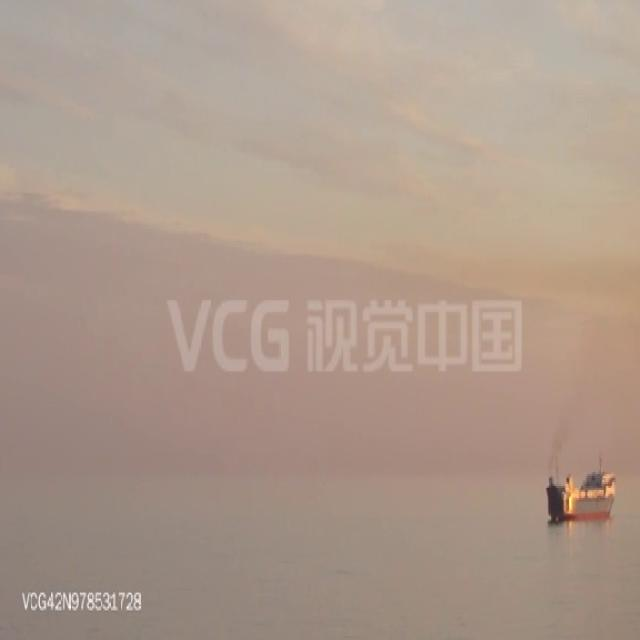cargoship: (542, 453, 618, 523)
